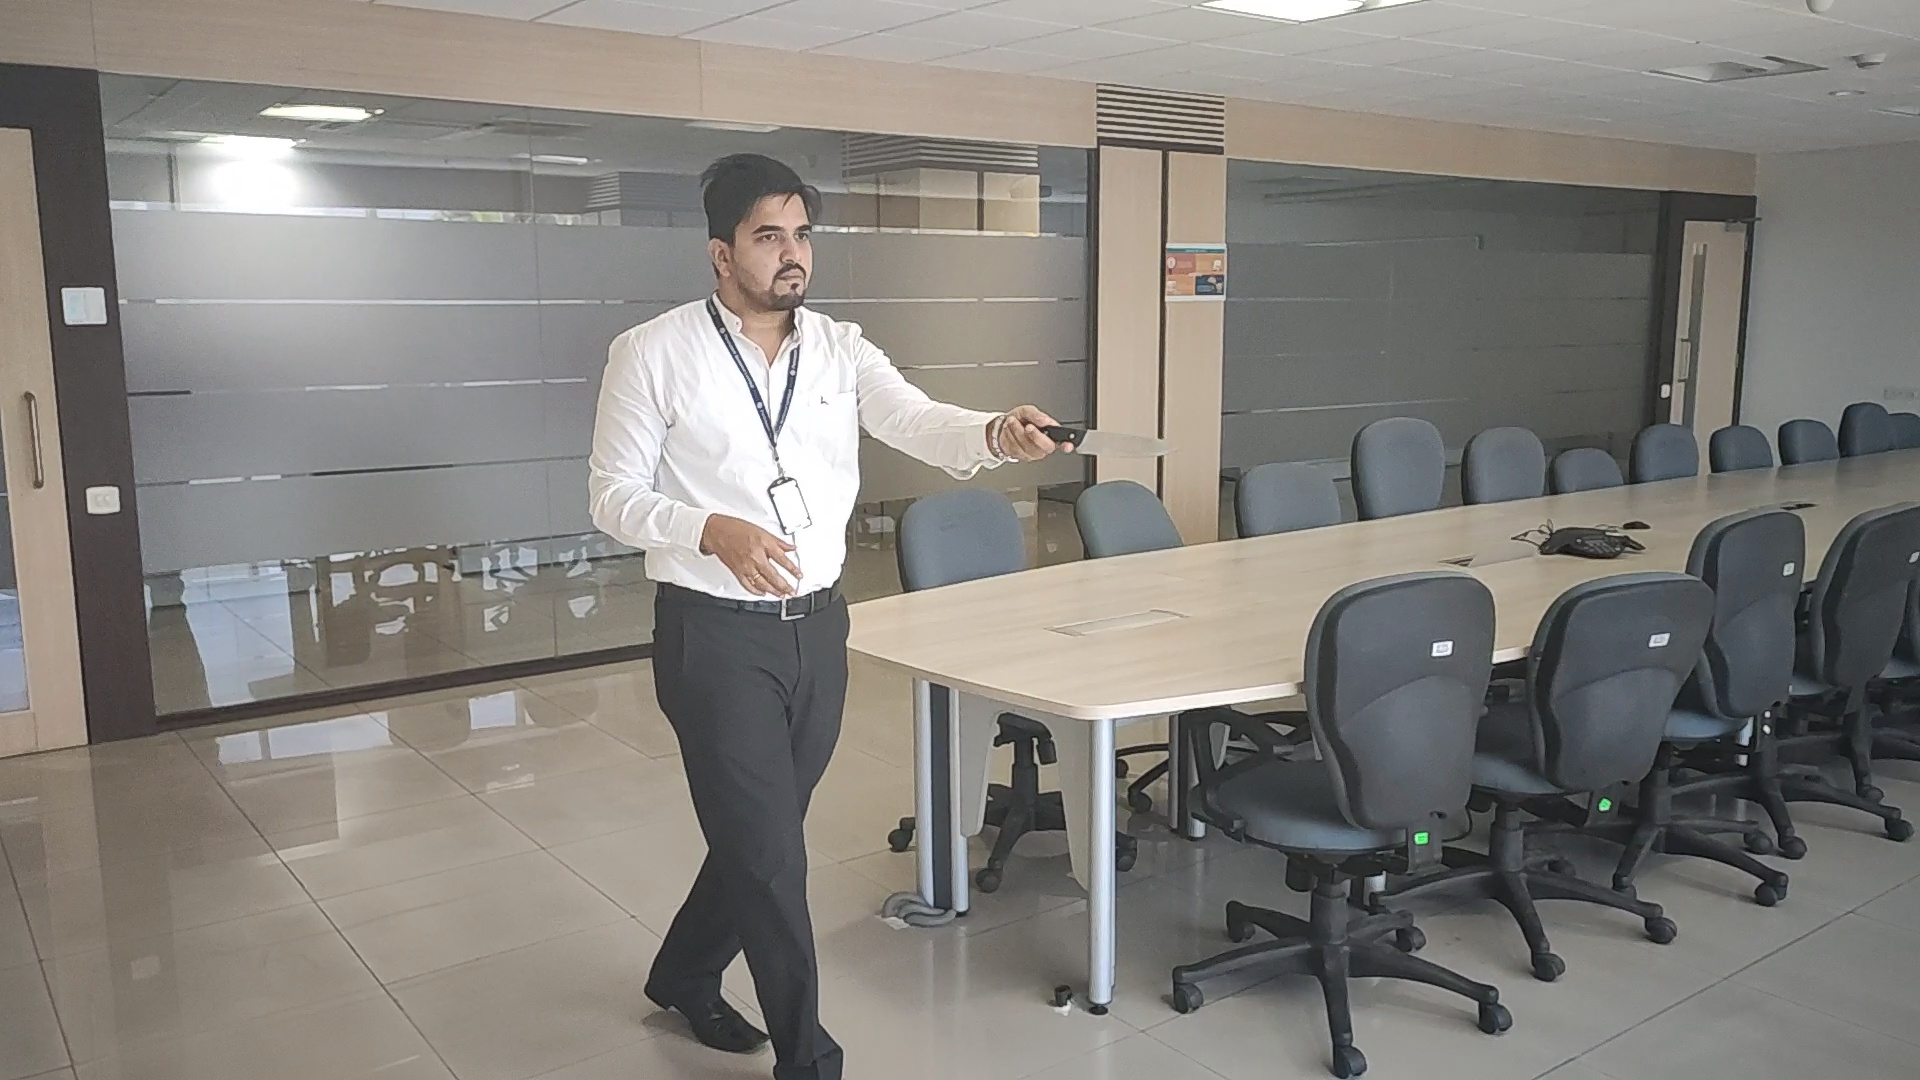knife: (1075, 429, 1182, 458)
